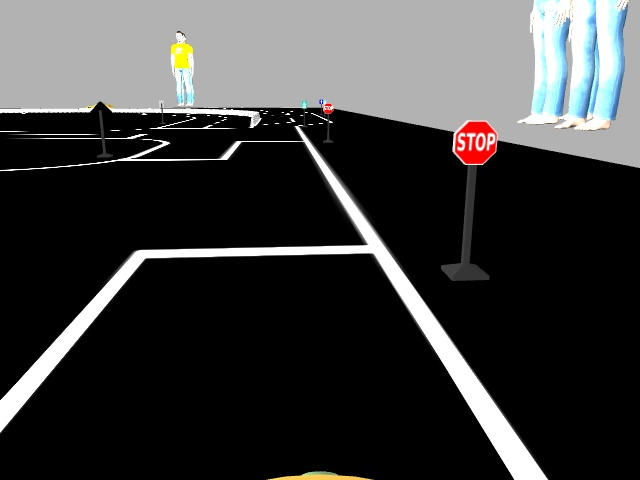Stop: (450, 121, 497, 165), (323, 102, 333, 112)
